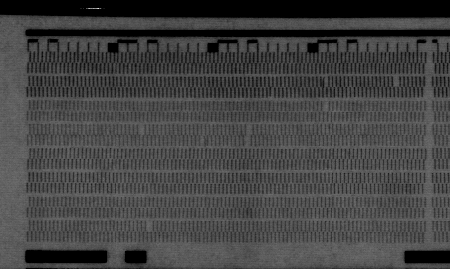Broken hole: (243, 125, 255, 148), (135, 124, 148, 137), (144, 221, 156, 234), (390, 74, 401, 87), (321, 100, 331, 111)
Oblique printing: (197, 135, 211, 148), (319, 76, 331, 90), (265, 87, 277, 101)
